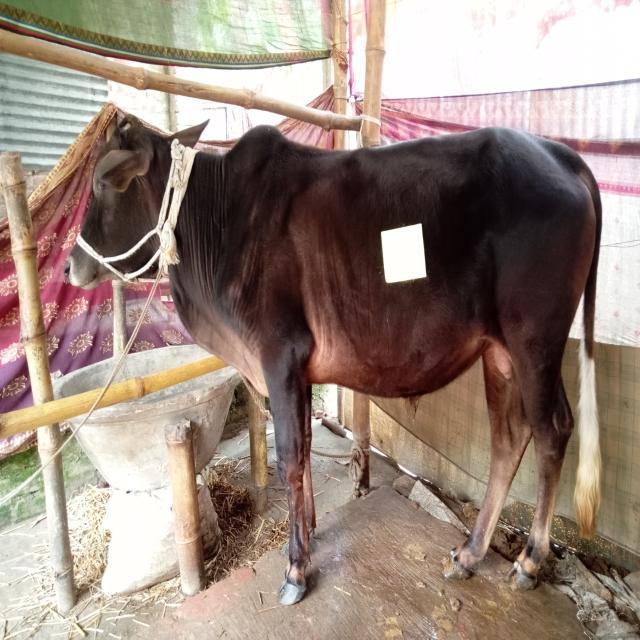badan_sapi: (274, 147, 548, 392)
sapi: (74, 115, 613, 612)
